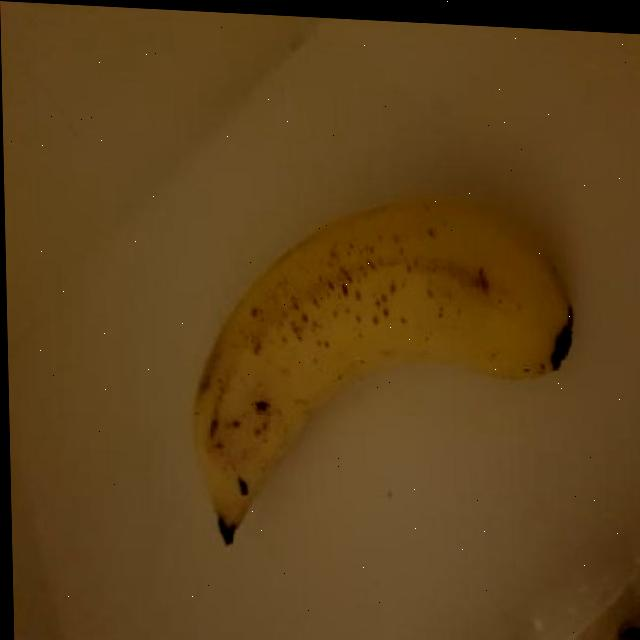banana: (175, 168, 584, 574)
